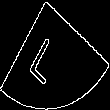L_NE: (35, 25, 75, 85)
